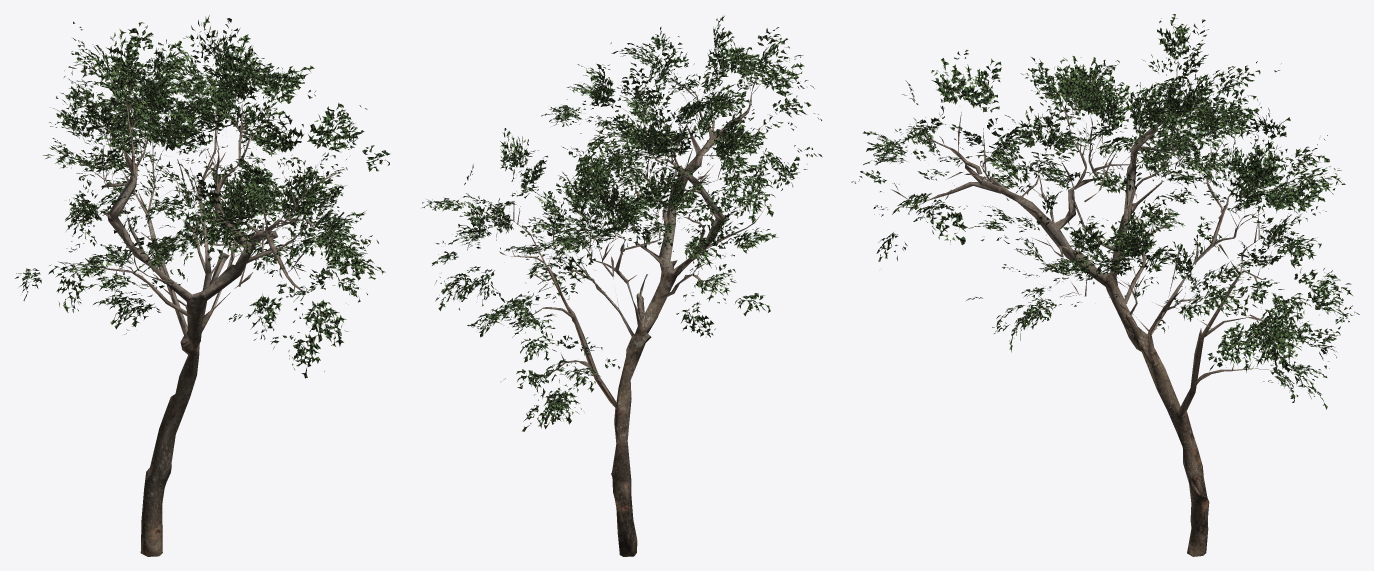
The model's file is broadleaf.glb.
3 views of the same model, side by side, from view 1: azimuth 30°, elevation 25°; view 2: azimuth 150°, elevation 25°; view 3: azimuth 270°, elevation 25° (orthographic). The views are drawn at different scales.
Visible parts, largest first — view 1: tree_small_02_LOD0; view 2: tree_small_02_LOD0; view 3: tree_small_02_LOD0.
Part boxes in pixels (bbox=[...]): tree_small_02_LOD0: bbox=[15, 15, 390, 556]; tree_small_02_LOD0: bbox=[422, 16, 822, 556]; tree_small_02_LOD0: bbox=[851, 14, 1359, 556].
Size of the model in its own units: 2.88 by 4.55 by 4.18.
3 materials, 3 textured.
